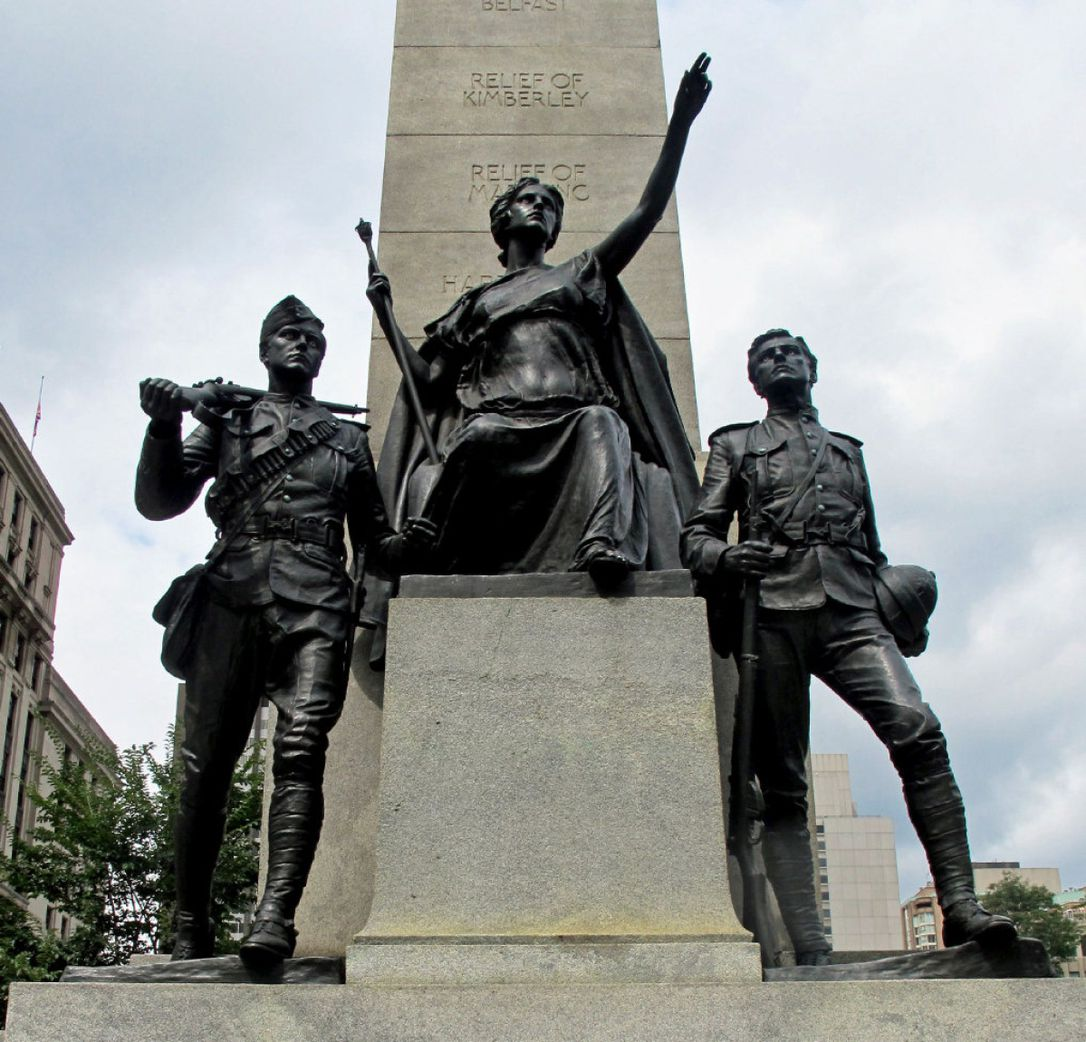person-like: (674, 322, 1037, 977), (351, 52, 728, 573), (125, 290, 409, 967)
